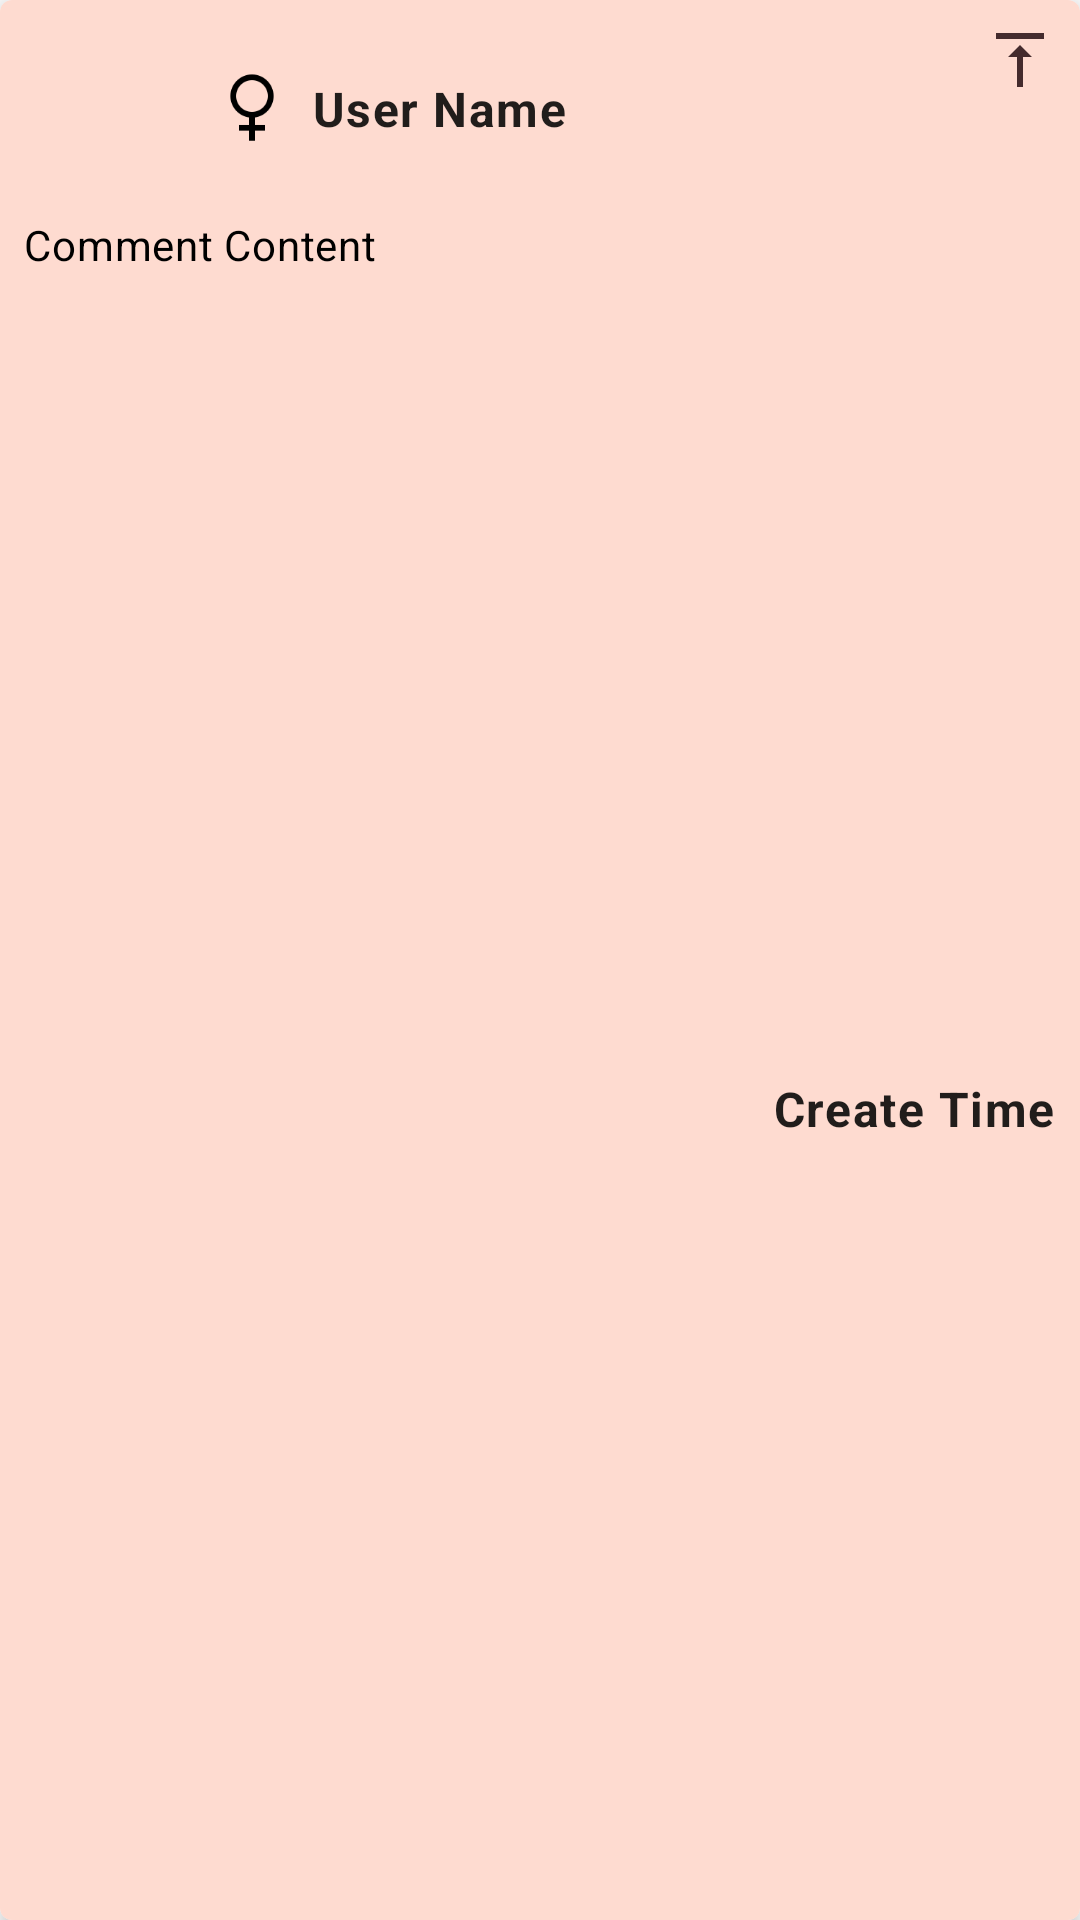

Icon click points for this 1080px×1920px phone screenshot, format (x=x, y=y):
comment top: (x=1020, y=60)
gender female: (x=252, y=107)
